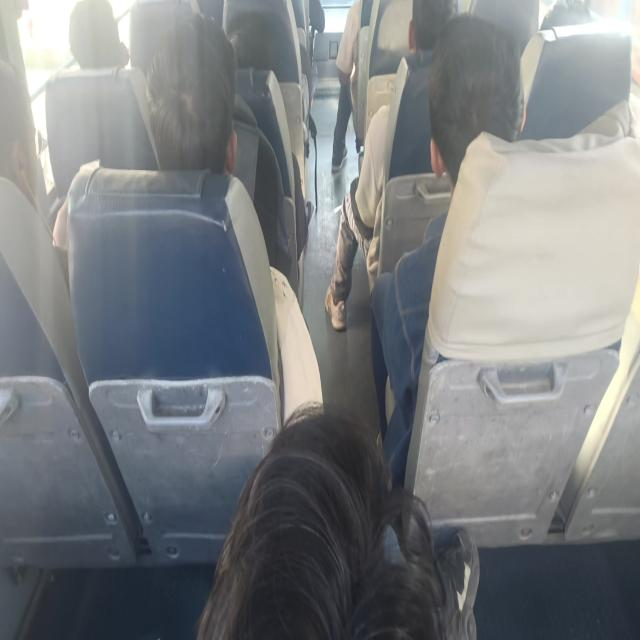person: (370, 12, 526, 488), (145, 12, 324, 425), (196, 400, 480, 638), (324, 0, 456, 331), (145, 12, 238, 175), (0, 58, 68, 248), (331, 1, 361, 173), (67, 0, 129, 69)
